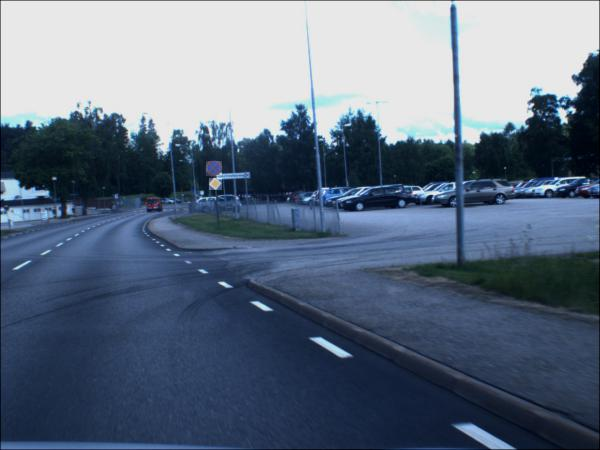GIVE_WAY: (182, 191, 186, 194)
NO_STOPPING_NO_STANDING: (207, 163, 224, 179)
PASS_RIGHT_SIDE: (182, 195, 186, 198)
PEDESTRIAN_CROSSING: (116, 195, 120, 201), (193, 191, 197, 195)
PRIORITY_ROAD: (210, 179, 224, 192)
